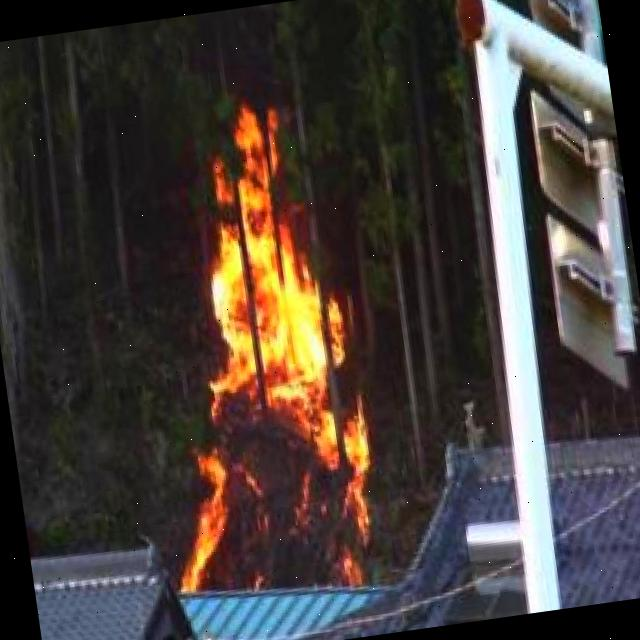fire: (132, 102, 388, 598)
